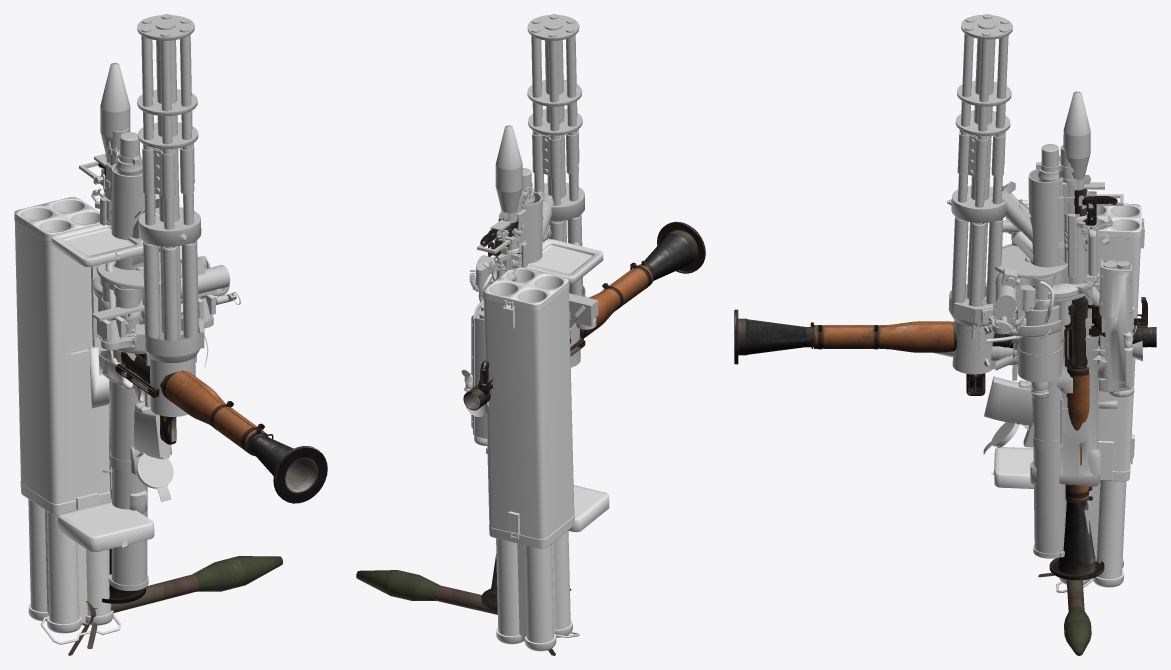
The model's file is boom.fbx.
3 renders of one model, left to right at view 1: azimuth 30°, elevation 25°; view 2: azimuth 150°, elevation 25°; view 3: azimuth 270°, elevation 25°, orthographic. The views are drawn at different scales.
Visible parts, largest first — view 1: M202A1, Minigun, LAW, RPG7_open, rocket, RG6, XM25, rocket_part, ChinaLake, MLG, RPG7; view 2: M202A1, Minigun, RPG7_open, rocket, rocket_part, XM25, LAW, RPG7, ChinaLake; view 3: Minigun, XM25, M202A1, LAW, RPG7_open, RPG7, RG6, u108, MLG, rocket_part, ChinaLake, rocket (+3 smaller).
Boxes of the visible parts, box(x1,y1,x2,y2) form: M202A1: box(14, 197, 154, 644); Minigun: box(92, 14, 240, 416); LAW: box(94, 154, 173, 590); RPG7_open: box(115, 352, 327, 503); rocket: box(68, 556, 282, 655); RG6: box(91, 168, 182, 412); XM25: box(95, 193, 171, 513); rocket_part: box(100, 63, 130, 162); ChinaLake: box(79, 128, 142, 475); MLG: box(92, 162, 144, 401); RPG7: box(98, 163, 145, 603); M202A1: box(461, 239, 609, 651); Minigun: box(469, 14, 598, 367); RPG7_open: box(463, 221, 705, 410); rocket: box(356, 570, 571, 655); rocket_part: box(495, 125, 522, 222); XM25: box(471, 248, 521, 445); LAW: box(486, 191, 542, 453); RPG7: box(480, 218, 521, 610); ChinaLake: box(477, 168, 534, 253); Minigun: box(947, 14, 1036, 380); XM25: box(984, 215, 1134, 486); M202A1: box(991, 199, 1144, 592); LAW: box(983, 169, 1117, 558); RPG7_open: box(734, 297, 1156, 395); RPG7: box(1049, 188, 1117, 580); RG6: box(995, 191, 1112, 388); u108: box(1018, 305, 1061, 382); MLG: box(1011, 211, 1099, 330); rocket_part: box(1063, 91, 1090, 190); ChinaLake: box(1023, 144, 1123, 447); rocket: box(1038, 573, 1091, 655).
Size of the model in its own units: 0.4134 by 1.09 by 0.7049.
